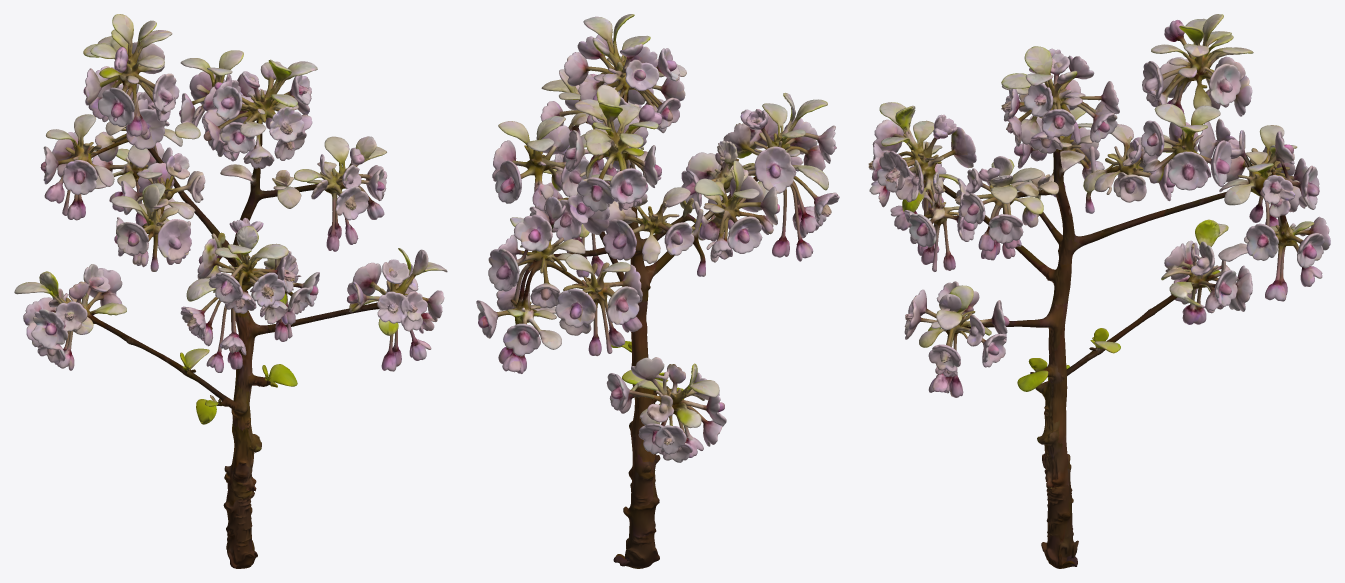
The model's file is ChuiSiHaiTang.glb.
The picture shows the model from 3 angles, left to right: view 1: azimuth 30°, elevation 25°; view 2: azimuth 150°, elevation 25°; view 3: azimuth 270°, elevation 25°; orthographic projection. The views are drawn at different scales.
Visible parts, largest first — view 1: tripo_node_6663607f-900a-4652-9aa6-f9f99dbd8aee; view 2: tripo_node_6663607f-900a-4652-9aa6-f9f99dbd8aee; view 3: tripo_node_6663607f-900a-4652-9aa6-f9f99dbd8aee.
Boxes of the visible parts, x1,y1,x2,y2 form: tripo_node_6663607f-900a-4652-9aa6-f9f99dbd8aee: (14, 14, 447, 568); tripo_node_6663607f-900a-4652-9aa6-f9f99dbd8aee: (476, 14, 839, 568); tripo_node_6663607f-900a-4652-9aa6-f9f99dbd8aee: (868, 14, 1330, 568).
Size of the model in its own units: 0.6043 by 0.981 by 0.7766.
Materials: 1 (1 with a texture image).
